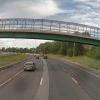Bridge: (4, 9, 98, 53)
